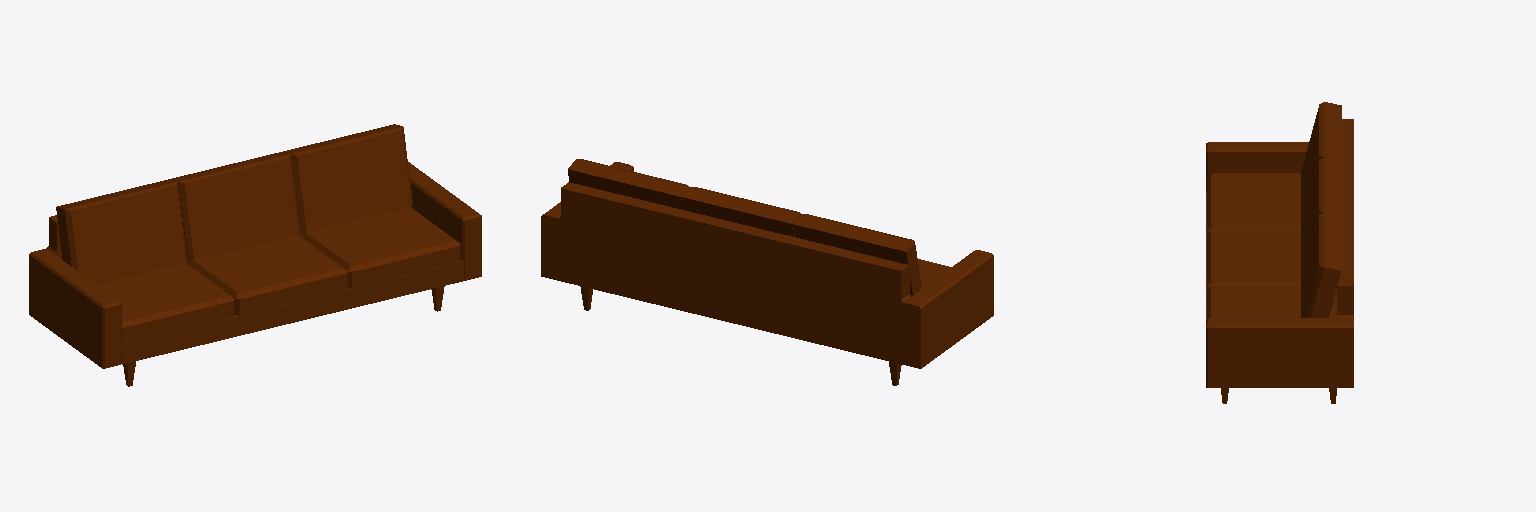
Rendered from SillonGrande.obj.
3 views of the same model, side by side, from view 1: azimuth 30°, elevation 25°; view 2: azimuth 150°, elevation 25°; view 3: azimuth 270°, elevation 25° (orthographic).
Visible parts, largest first — view 1: couch1_Material.005; view 2: couch1_Material.005; view 3: couch1_Material.005.
Boxes of the visible parts, x1=… form: couch1_Material.005: x1=29, y1=124, x2=481, y2=386; couch1_Material.005: x1=541, y1=159, x2=993, y2=385; couch1_Material.005: x1=1206, y1=102, x2=1353, y2=403.
Bounding box in the file's own units: 3.31 × 1.2 × 1.12.